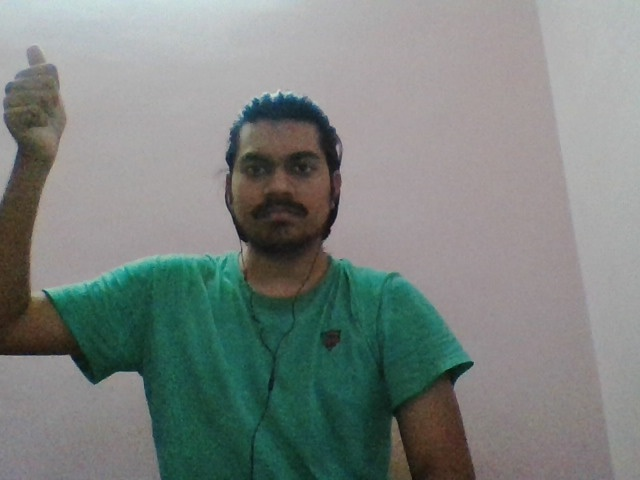ThumbsUp: (1, 41, 71, 165)
